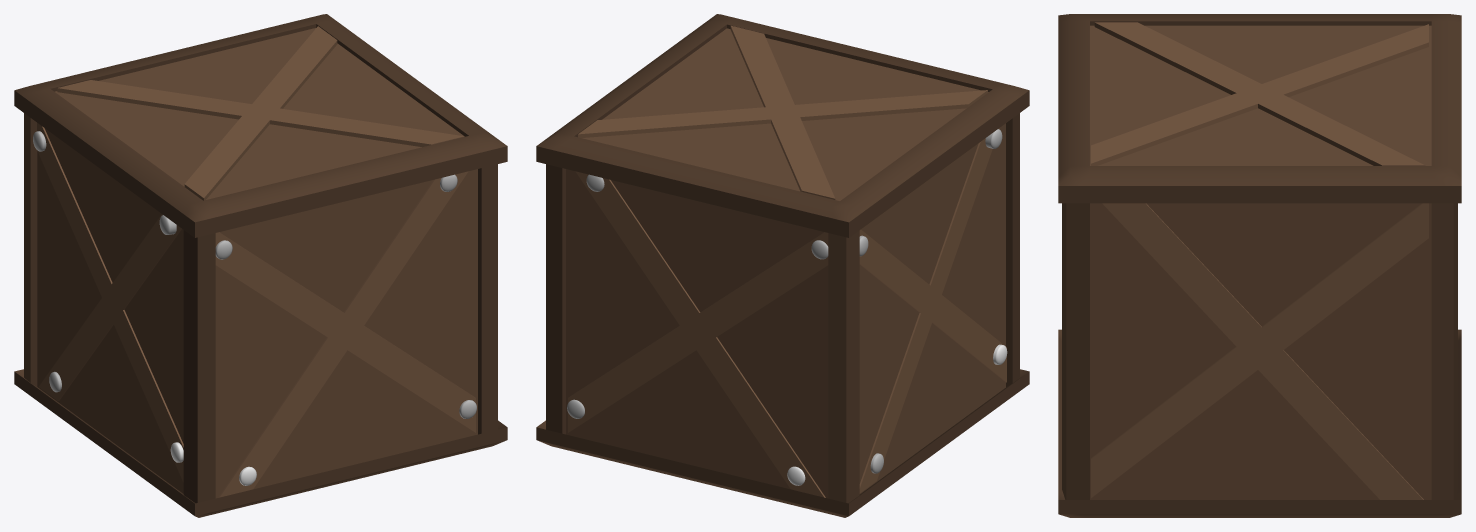
File: crate.fbx
The picture shows the model from 3 angles, left to right: view 1: azimuth 30°, elevation 25°; view 2: azimuth 150°, elevation 25°; view 3: azimuth 270°, elevation 25°; orthographic projection. The views are drawn at different scales.
Parts seen in each view (by area): view 1: crate_LOD0; view 2: crate_LOD0; view 3: crate_LOD0.
Part boxes in pixels (x1,y1,x2,y2): crate_LOD0: [14, 14, 507, 517]; crate_LOD0: [536, 14, 1029, 517]; crate_LOD0: [1058, 14, 1461, 517].
Size of the model in its own units: 10.76 by 10.19 by 10.72.
